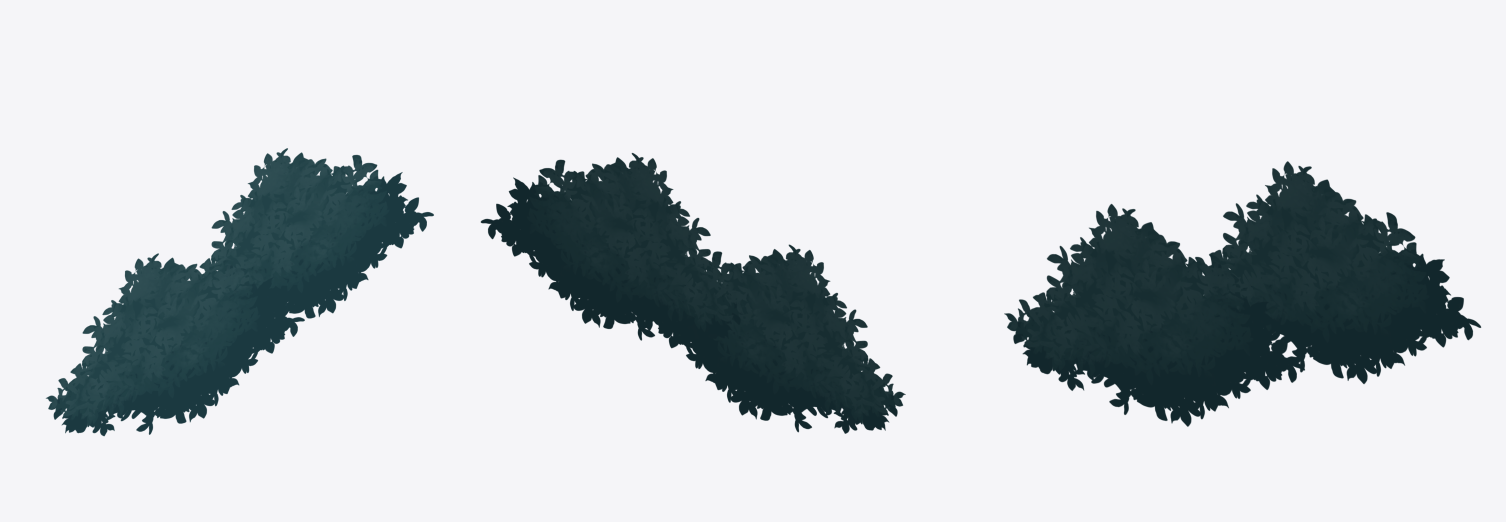
The model's file is foliage.glb.
3 views of the same model, side by side, from view 1: azimuth 30°, elevation 25°; view 2: azimuth 150°, elevation 25°; view 3: azimuth 330°, elevation 25° (orthographic). The views are drawn at different scales.
Parts seen in each view (by area): view 1: Foliage; view 2: Foliage; view 3: Foliage.
Part boxes in pixels (box(x1,y1,x2,y2)): Foliage: box(46, 148, 433, 436); Foliage: box(480, 153, 905, 433); Foliage: box(1004, 161, 1481, 426).
Bounding box in the file's own units: 7.12 × 5.85 × 0.3164.
Materials: 1 (1 with a texture image).
